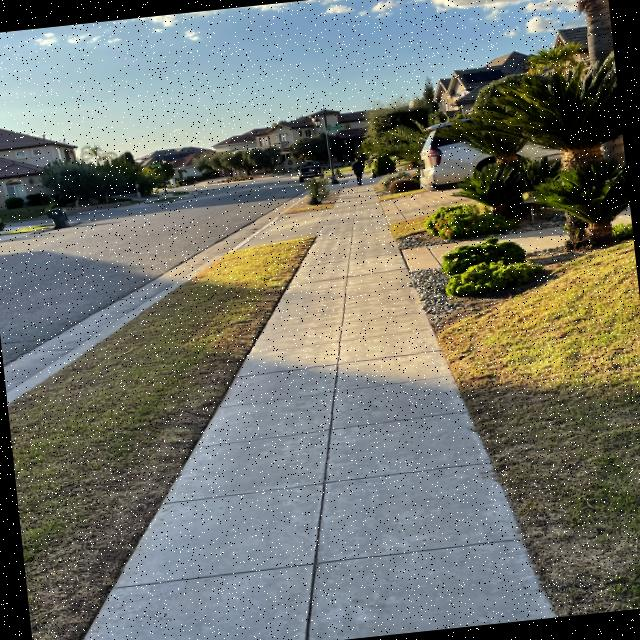curb: (39, 306, 156, 362), (102, 268, 198, 312), (9, 353, 100, 392)
road: (0, 219, 94, 371), (40, 222, 186, 283), (102, 200, 268, 240)
walkway: (130, 522, 529, 640), (167, 454, 491, 578), (208, 392, 486, 526), (252, 338, 444, 452), (291, 278, 429, 402), (317, 227, 408, 357), (332, 190, 392, 336)
walkway-edge: (456, 399, 588, 625), (402, 264, 489, 442), (66, 530, 155, 640), (166, 380, 266, 454), (376, 199, 432, 315), (143, 436, 208, 514), (248, 289, 296, 344), (282, 238, 332, 286)
